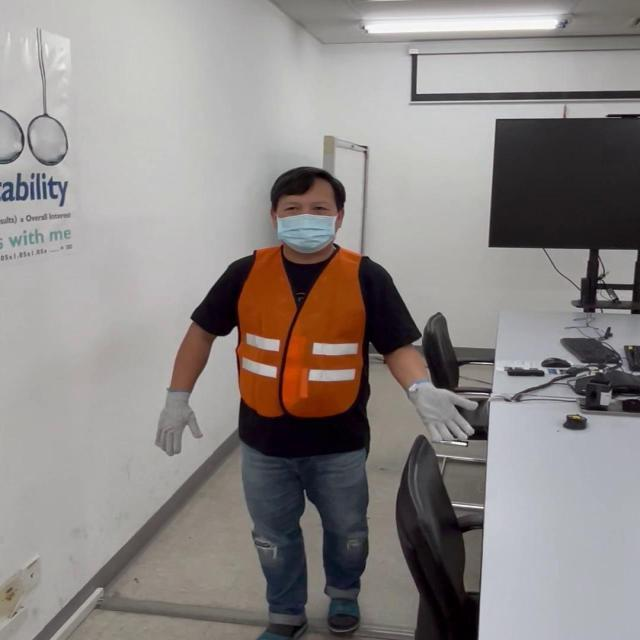gloved_hand: (401, 378, 476, 445), (153, 388, 209, 458)
